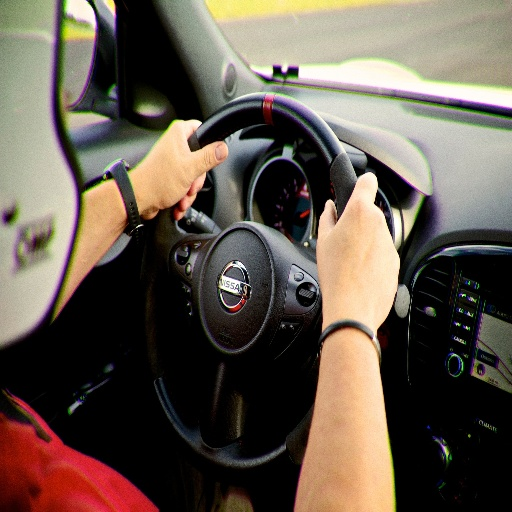hand: (310, 171, 404, 369), (127, 116, 230, 225)
